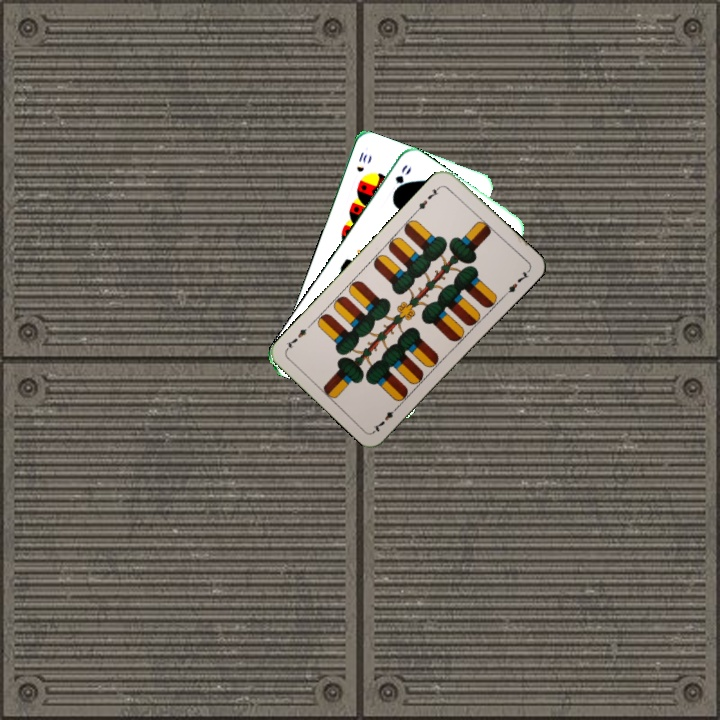E7: (369, 402, 402, 434), (412, 182, 443, 215)
GO: (388, 160, 414, 199)
S10: (352, 148, 370, 175)
